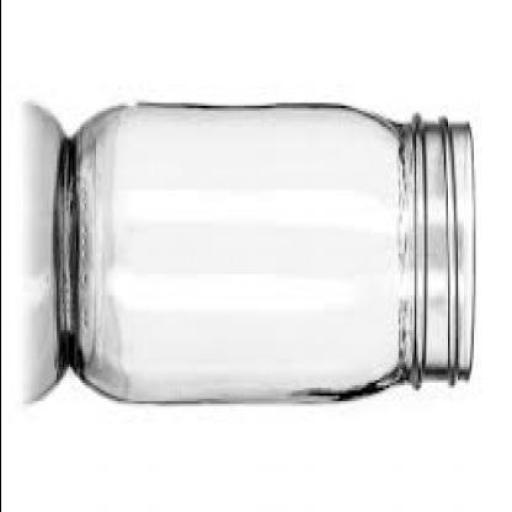glass: (58, 98, 476, 400)
